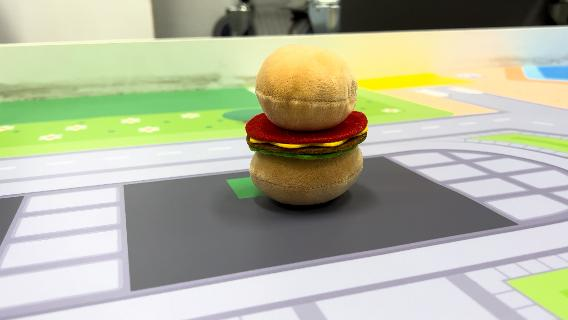burger: (242, 42, 372, 208)
